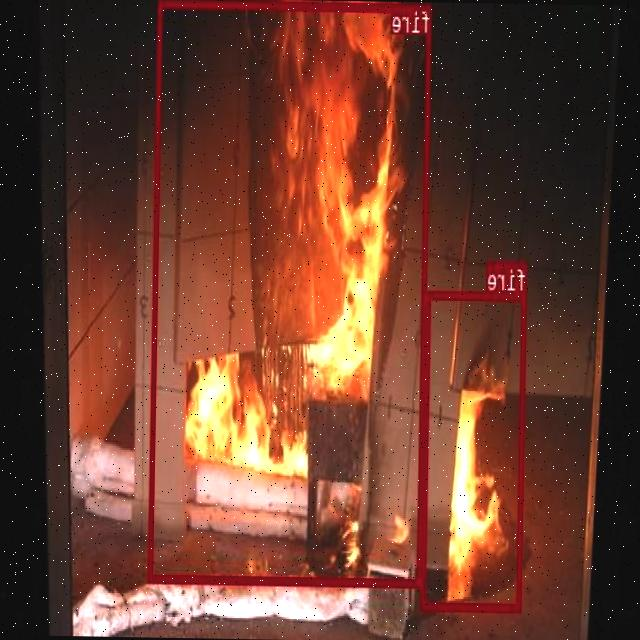fire: (149, 0, 432, 586), (422, 288, 528, 609)
